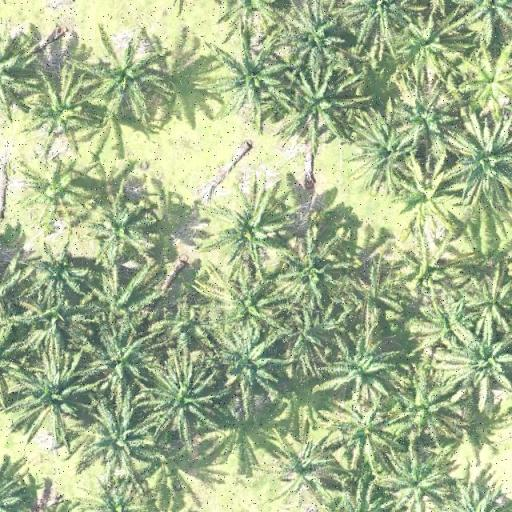Ganoderma: (34, 86, 84, 132), (33, 166, 78, 208), (468, 59, 510, 100)
